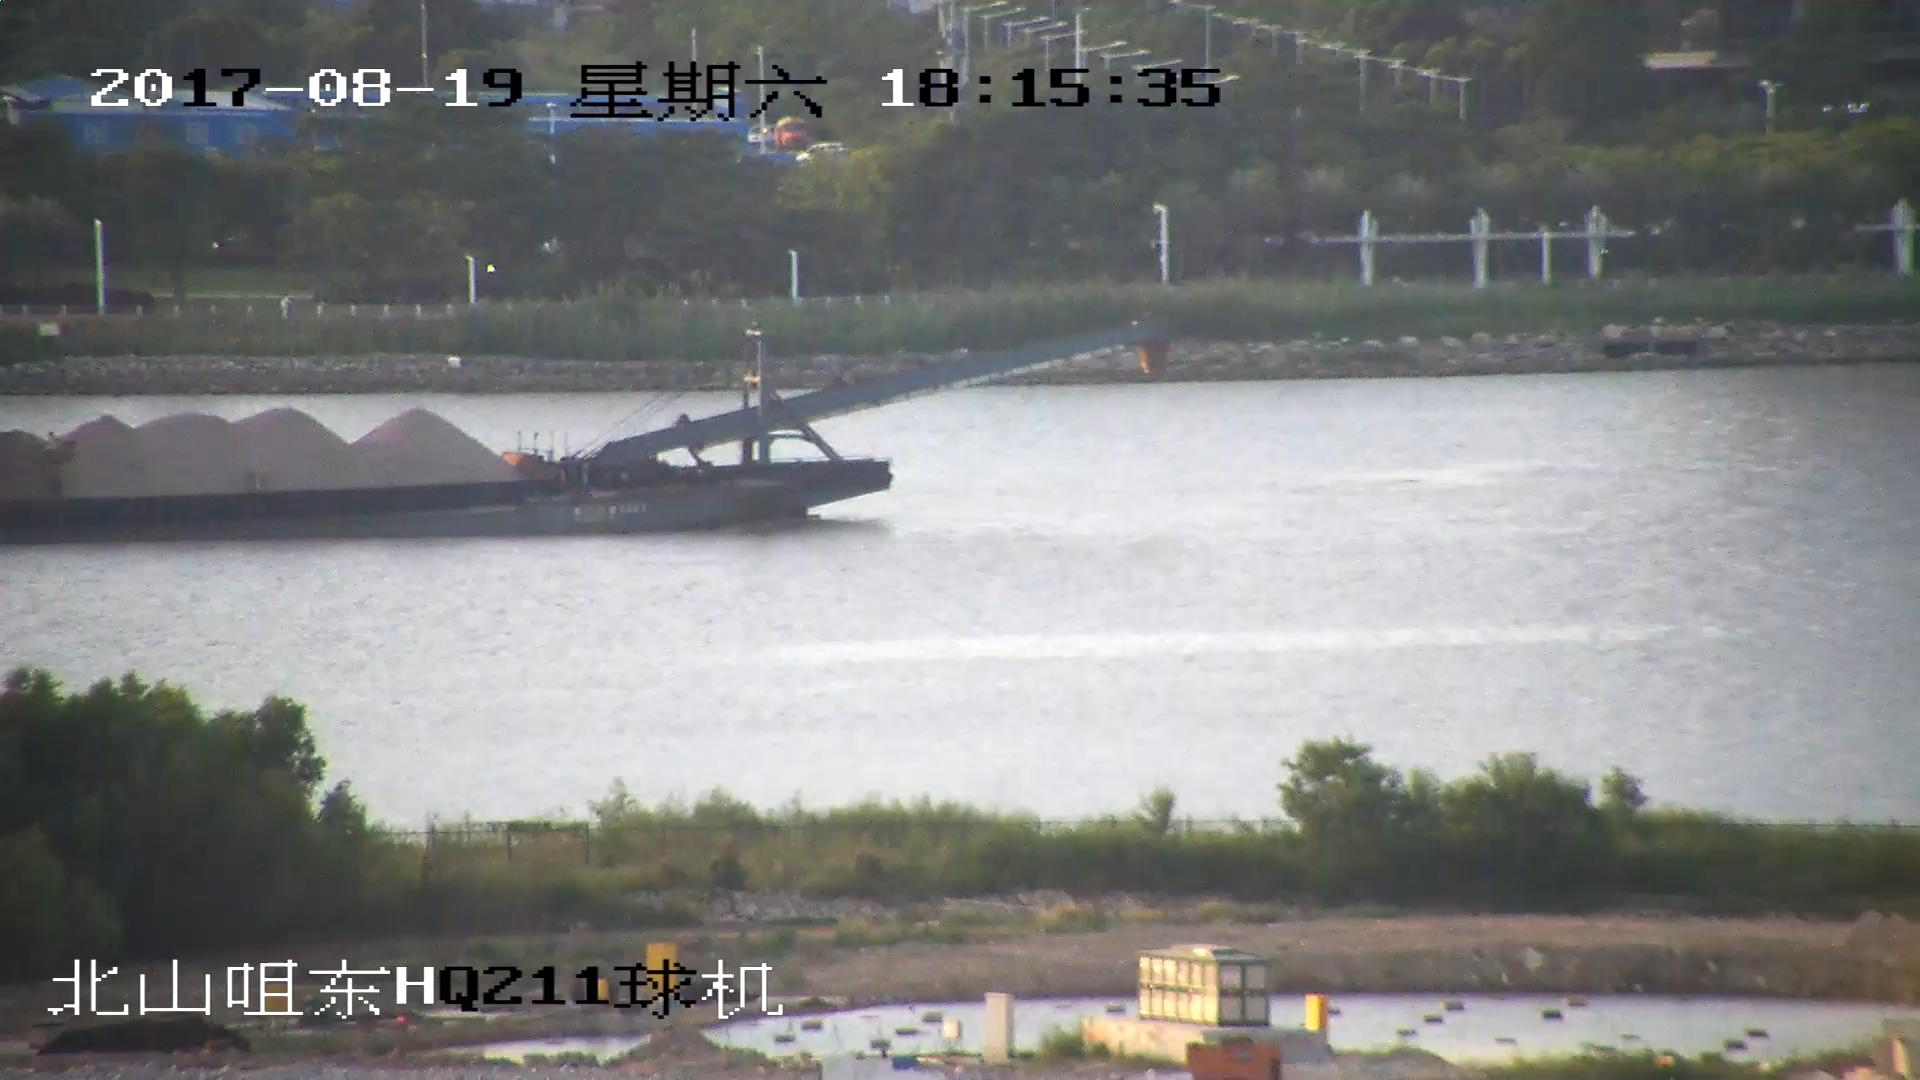ore carrier: (1, 324, 1161, 551)
